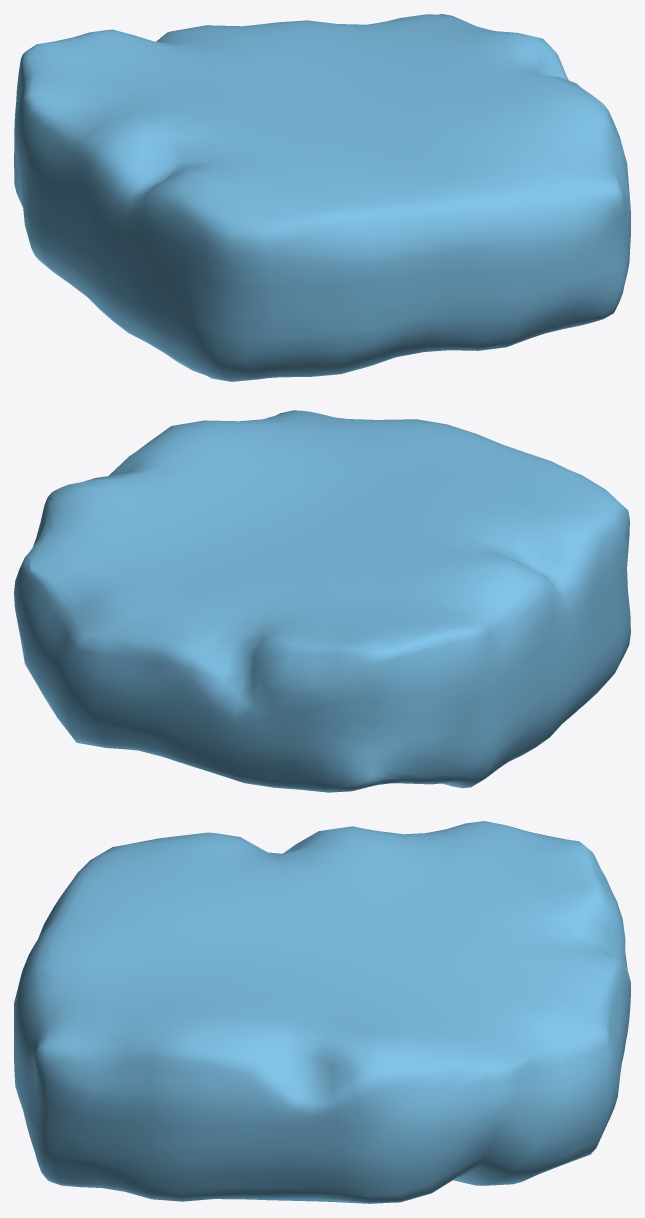
File: Platform3.fbx
The picture shows the model from 3 angles, top to bottom: view 1: azimuth 30°, elevation 25°; view 2: azimuth 150°, elevation 25°; view 3: azimuth 270°, elevation 25°; orthographic projection. The views are drawn at different scales.
Parts seen in each view (by area): view 1: Retopo_Cube.005; view 2: Retopo_Cube.005; view 3: Retopo_Cube.005.
Boxes of the visible parts, x1,y1,x2,y2 form: Retopo_Cube.005: (14, 14, 630, 381); Retopo_Cube.005: (14, 410, 630, 792); Retopo_Cube.005: (14, 821, 630, 1203).
Bounding box in the file's own units: 400 × 149 × 419.
